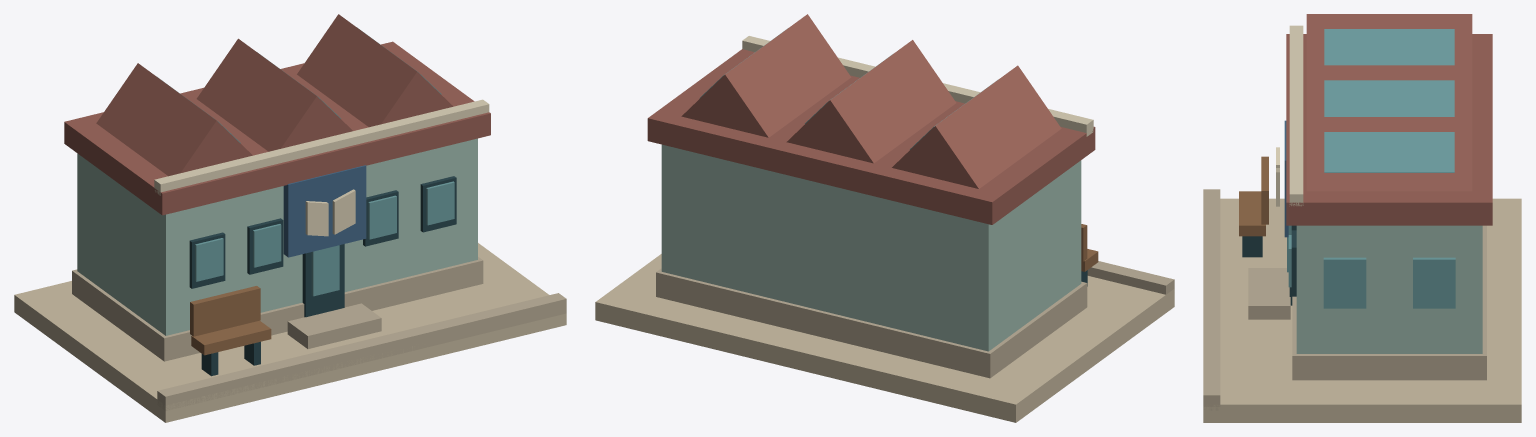
File: library-seabreeze-complete.glb
3 renders of one model, left to right at view 1: azimuth 30°, elevation 25°; view 2: azimuth 150°, elevation 25°; view 3: azimuth 270°, elevation 25°, orthographic. The views are drawn at different scales.
Visible parts, largest first — view 1: library; view 2: library; view 3: library.
Part boxes in pixels (<box>): library: <box>14,14,566,422</box>; library: <box>595,14,1174,422</box>; library: <box>1203,14,1521,422</box>.
Bounding box in the file's own units: 2.88 × 1.66 × 1.88.
